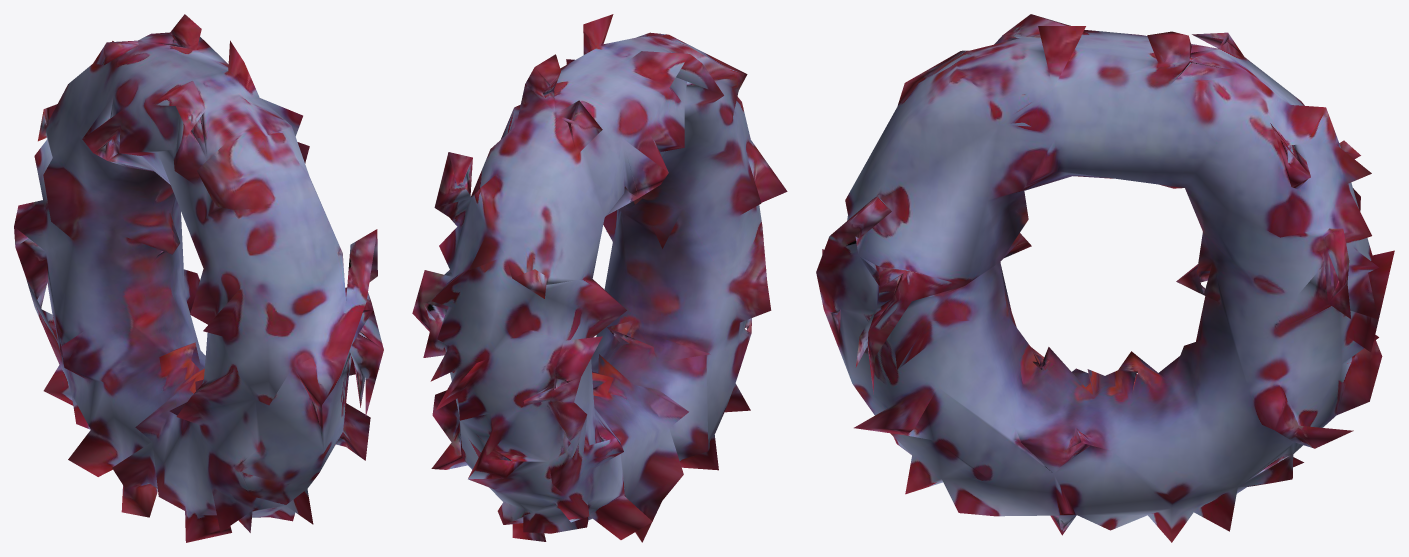
The model's file is Bacteria2.fbx.
The picture shows the model from 3 angles, left to right: view 1: azimuth 30°, elevation 25°; view 2: azimuth 150°, elevation 25°; view 3: azimuth 270°, elevation 25°; orthographic projection. The views are drawn at different scales.
Parts seen in each view (by area): view 1: ef0f140e58_Flagellate_bacteria:Mesh; view 2: ef0f140e58_Flagellate_bacteria:Mesh; view 3: ef0f140e58_Flagellate_bacteria:Mesh.
Part boxes in pixels (x1=…): ef0f140e58_Flagellate_bacteria:Mesh: x1=14, y1=14, x2=383, y2=542; ef0f140e58_Flagellate_bacteria:Mesh: x1=412, y1=14, x2=787, y2=542; ef0f140e58_Flagellate_bacteria:Mesh: x1=816, y1=14, x2=1394, y2=542.
Bounding box in the file's own units: 0.4027 × 0.995 × 1.
1 material, 1 textured.
